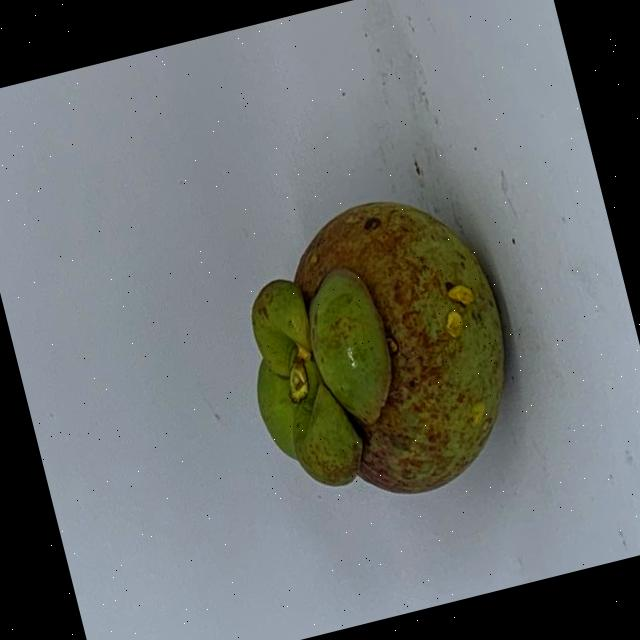mangosteen: (170, 154, 553, 571)
